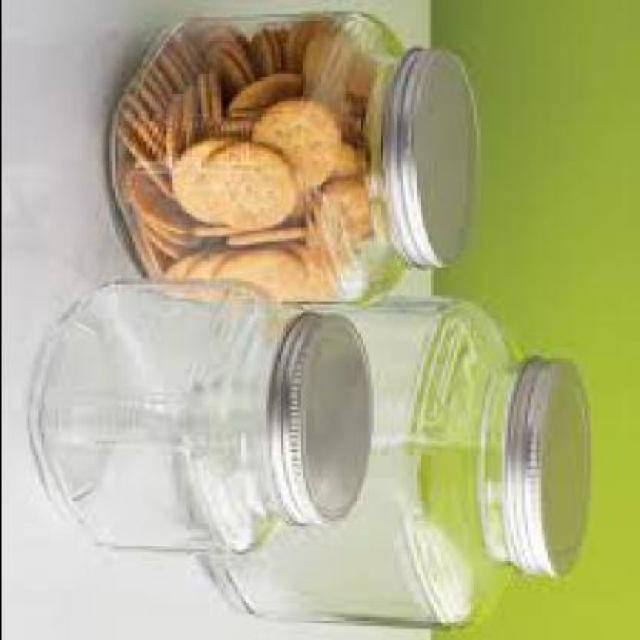BIODEGRADABLE: (122, 29, 213, 180), (248, 94, 342, 188), (202, 137, 296, 228), (173, 128, 259, 222), (219, 245, 330, 310), (293, 11, 353, 100), (316, 176, 378, 262), (230, 72, 307, 139), (194, 31, 258, 111), (128, 168, 170, 278), (134, 162, 195, 227), (148, 199, 194, 273), (338, 37, 382, 114), (227, 219, 316, 253), (190, 242, 228, 307), (253, 22, 299, 75), (338, 80, 372, 145), (168, 242, 200, 302), (333, 134, 364, 174)
GLASS: (194, 296, 526, 629), (108, 11, 412, 307), (28, 276, 302, 552)
METAL: (271, 311, 372, 523), (387, 43, 481, 268), (508, 359, 594, 572)
